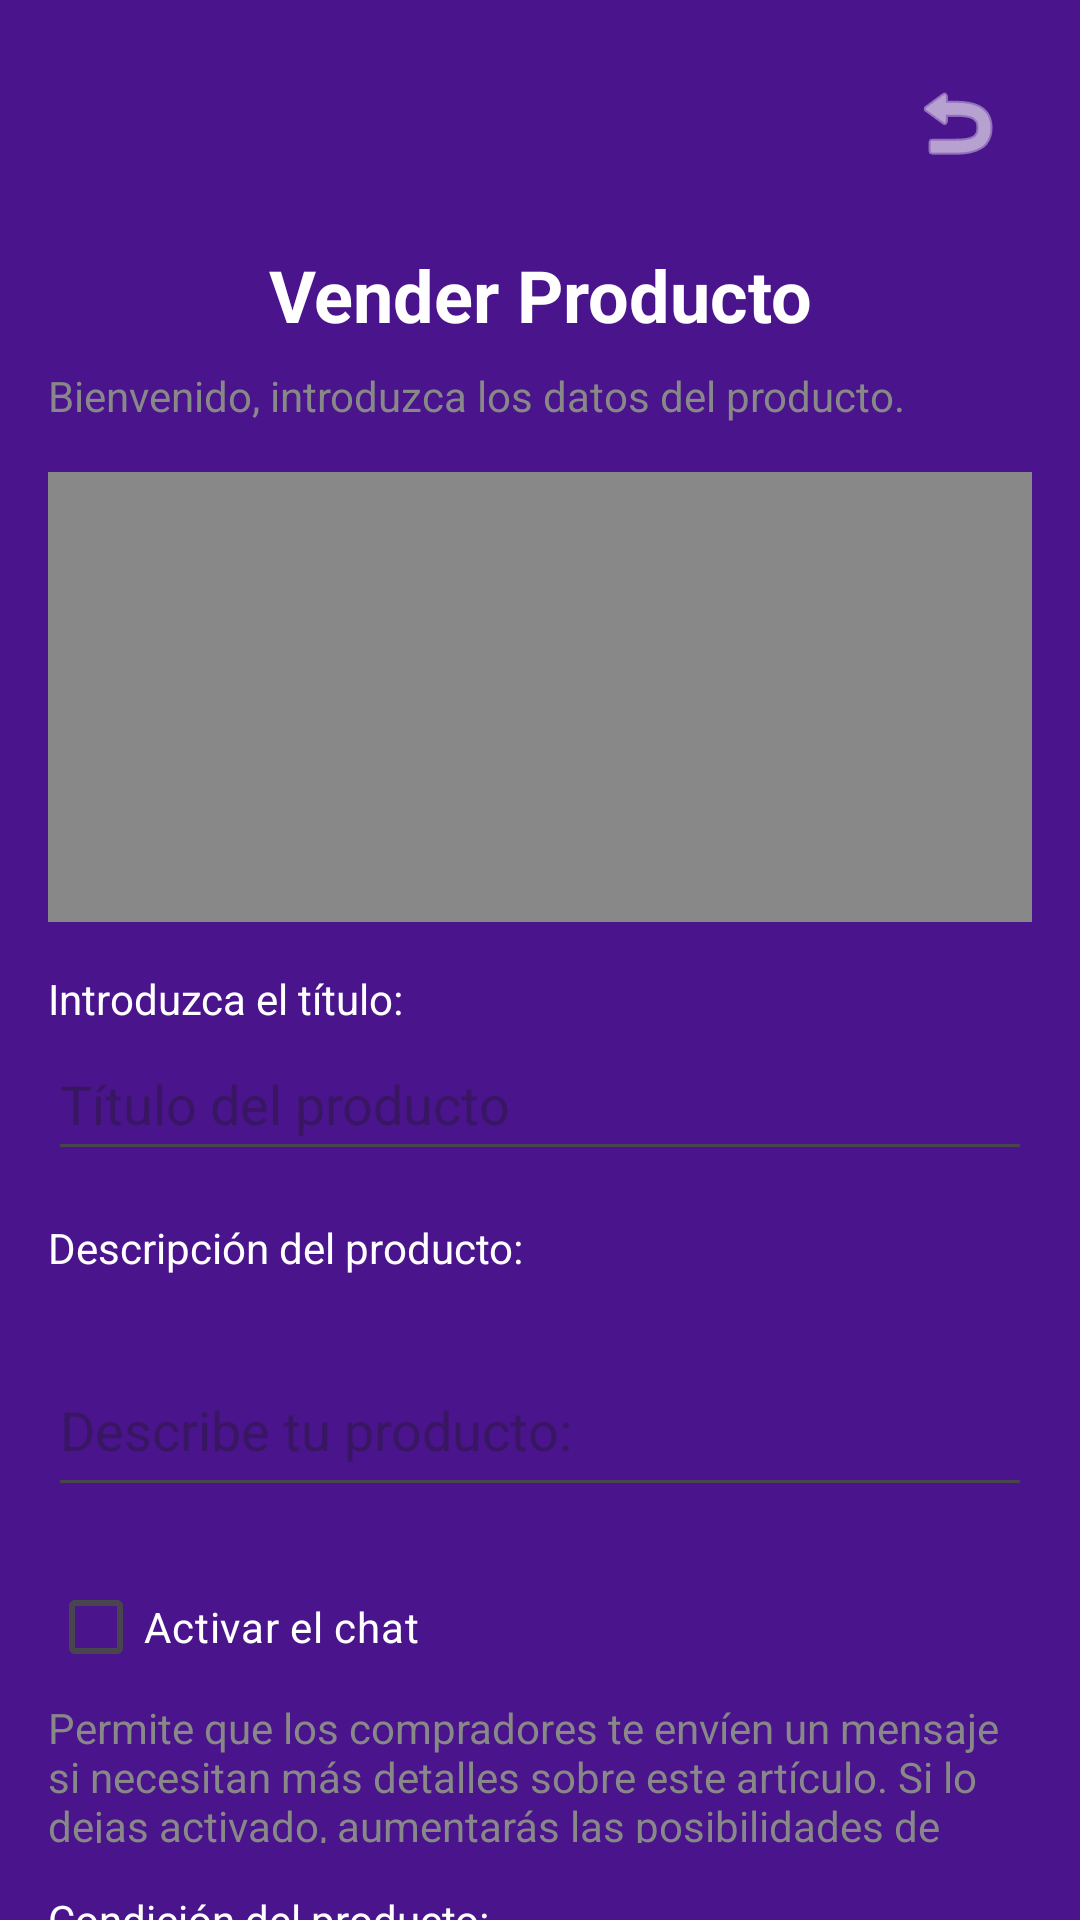

Where to tap for icons on this 1080*1920 app screen, as [x,y]:
Navega de vuelta a la ventana anterior: [958,123]
